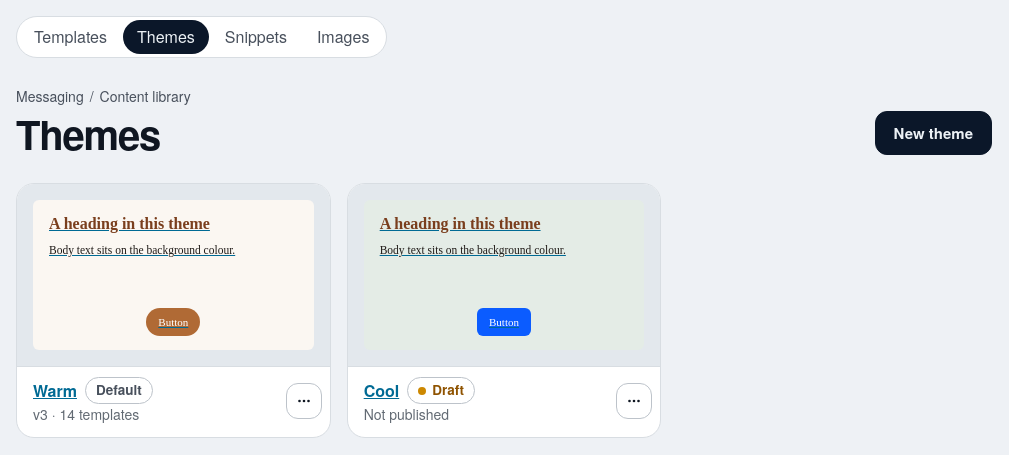
Scenario: the theme list › disables Archive on the default theme and says why
Click the button named "More actions for Warm" at [304, 401], box [286, 383, 322, 419]
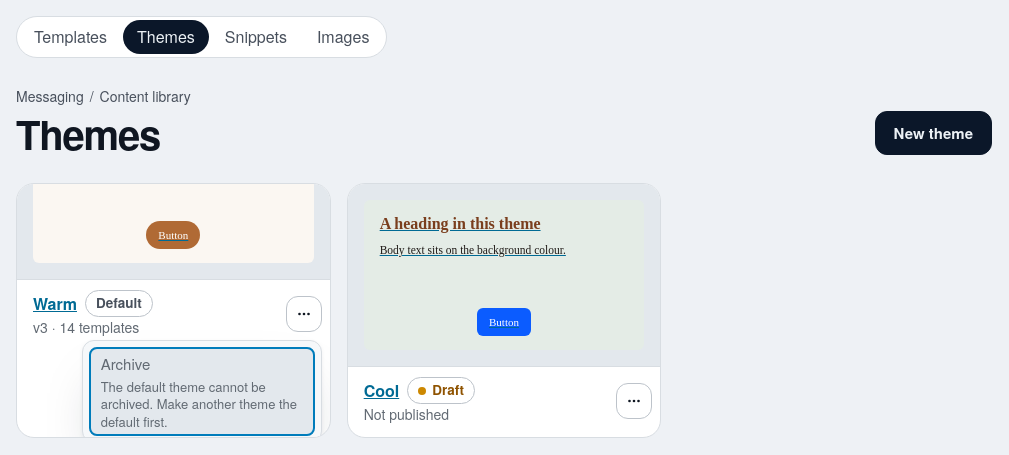
Expected: the menu item "Archive" shows "The default theme cannot be archived", [89, 347, 315, 436]
